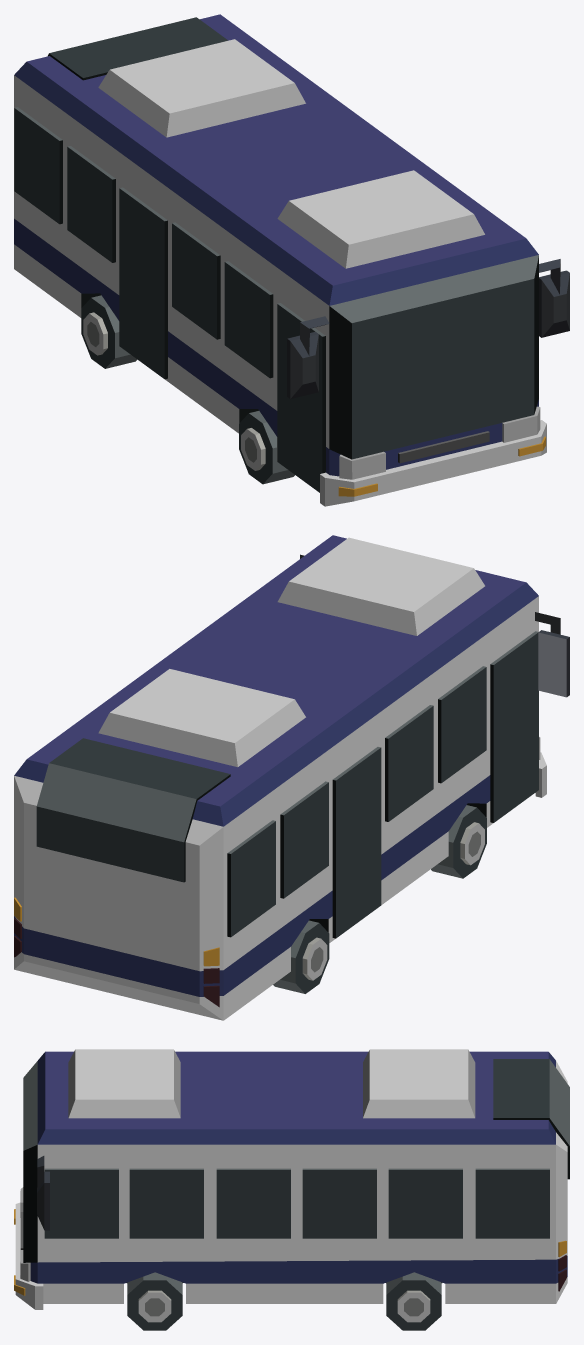
The model's file is TB_CITY_Car_Bus_C.FBX.
3 renders of one model, top to bottom at view 1: azimuth 30°, elevation 25°; view 2: azimuth 150°, elevation 25°; view 3: azimuth 270°, elevation 25°, orthographic. The views are drawn at different scales.
Visible parts, largest first — view 1: TB_CITY_Car_Bus_C, TB_Car_Bus_Wheel009, TB_Car_Bus_Wheel011; view 2: TB_CITY_Car_Bus_C, TB_Car_Bus_Wheel009, TB_Car_Bus_Wheel011; view 3: TB_CITY_Car_Bus_C, TB_Car_Bus_Wheel010, TB_Car_Bus_Wheel012.
Part boxes in pixels (x1,y1,x2,y2): TB_CITY_Car_Bus_C: (14, 14, 569, 506); TB_Car_Bus_Wheel009: (81, 295, 137, 368); TB_Car_Bus_Wheel011: (239, 411, 294, 484); TB_CITY_Car_Bus_C: (14, 535, 569, 1020); TB_Car_Bus_Wheel009: (273, 920, 329, 993); TB_Car_Bus_Wheel011: (431, 805, 486, 878); TB_CITY_Car_Bus_C: (14, 1049, 569, 1309); TB_Car_Bus_Wheel010: (386, 1272, 441, 1330); TB_Car_Bus_Wheel012: (127, 1272, 182, 1330).
Size of the model in its own units: 5.09 by 4.51 by 10.66.
